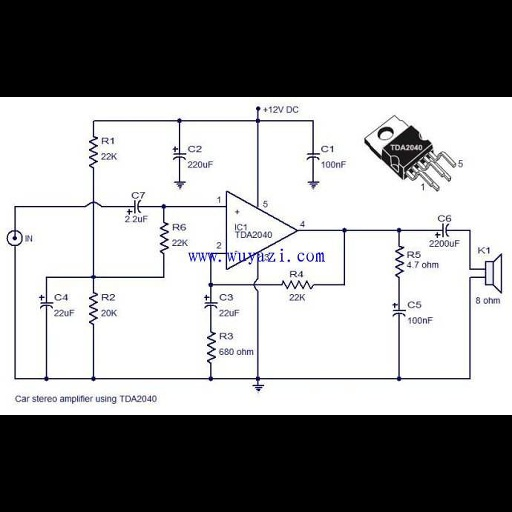amplifier: (223, 188, 298, 271)
firstpolarcapacitor: (123, 198, 147, 216), (389, 299, 407, 319), (168, 144, 187, 162), (199, 293, 218, 310), (36, 293, 53, 311), (433, 222, 451, 239), (305, 148, 320, 162)
loudspeaker: (480, 251, 506, 294)
secondresistance: (201, 327, 217, 367), (84, 289, 99, 329), (391, 242, 406, 282), (86, 132, 100, 174), (278, 278, 316, 292), (157, 219, 171, 257)
